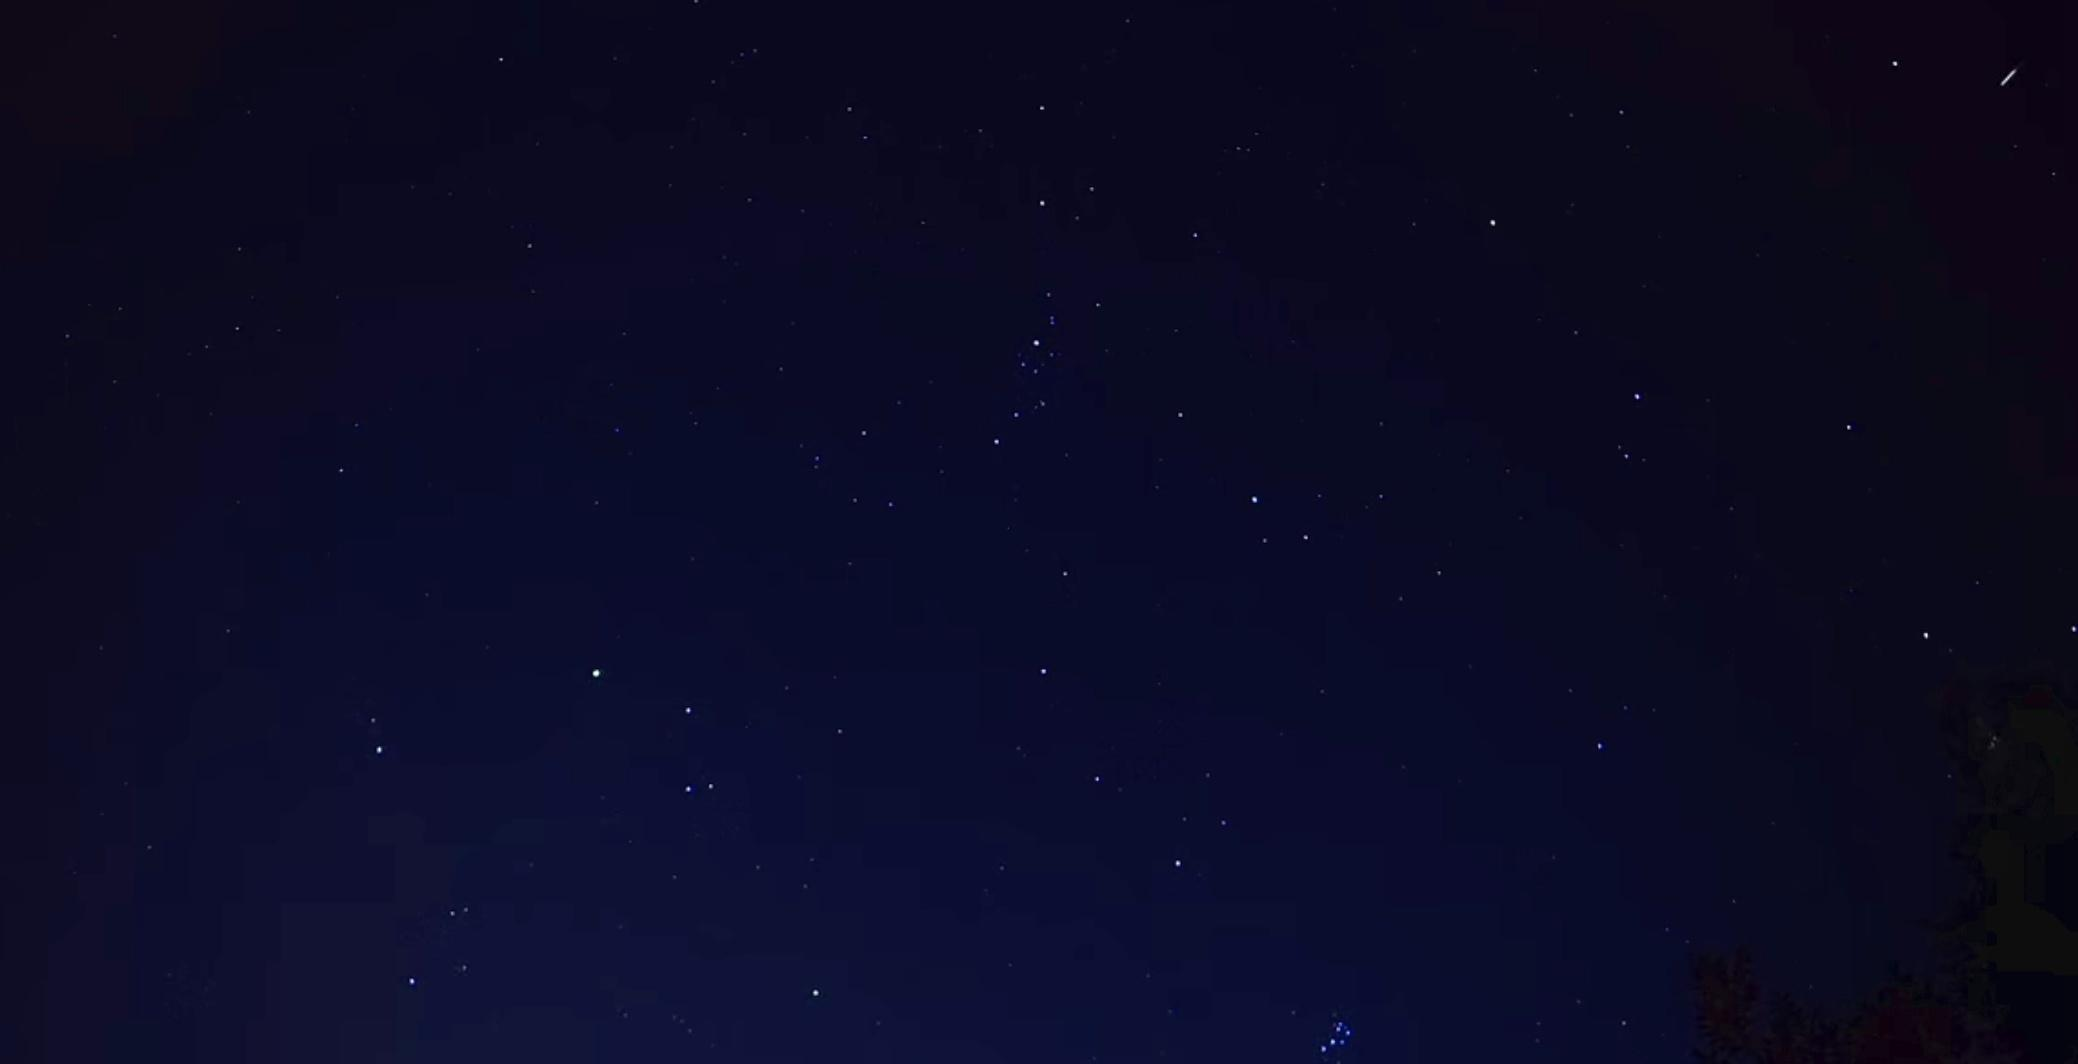meteorite: (1963, 52, 2058, 100)
